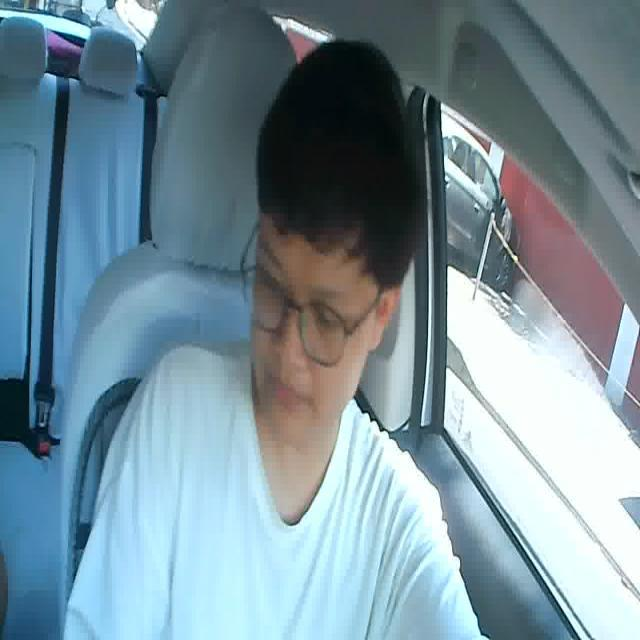Eye-Close: (312, 302, 346, 331), (256, 269, 289, 297)
Inattentive: (252, 39, 422, 448)
Normal: (267, 373, 312, 411)
